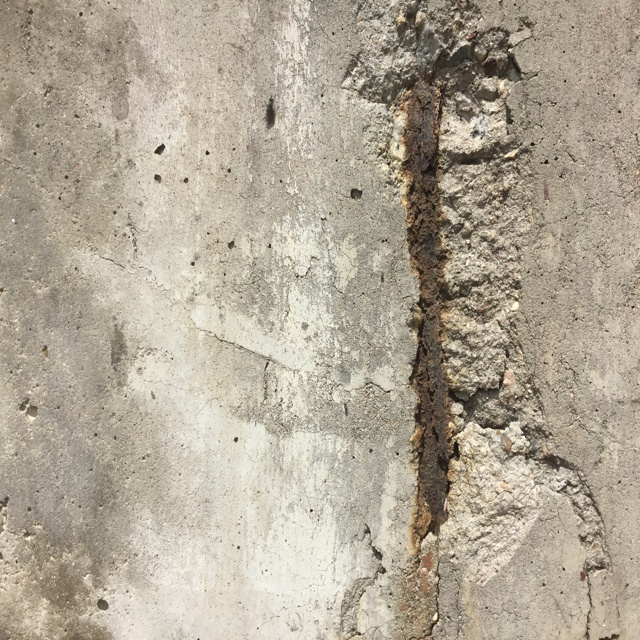rebar: (409, 52, 452, 526)
